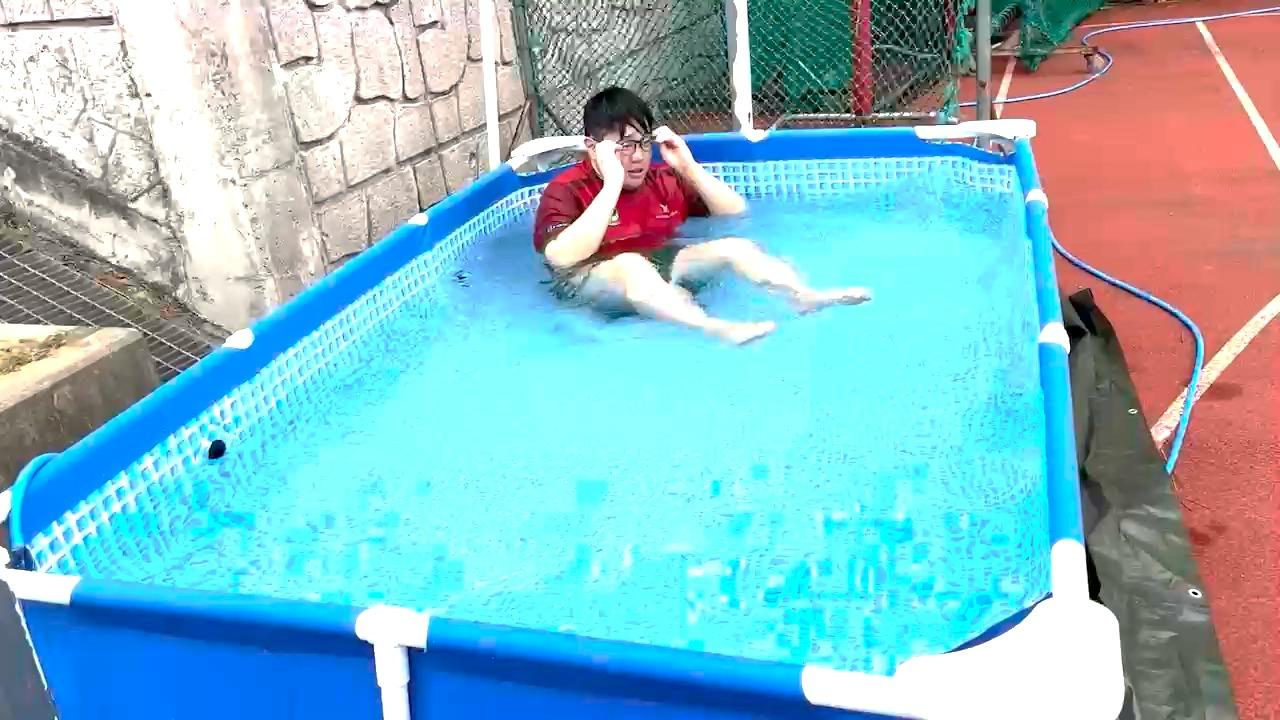Swimming: (488, 62, 837, 356)
